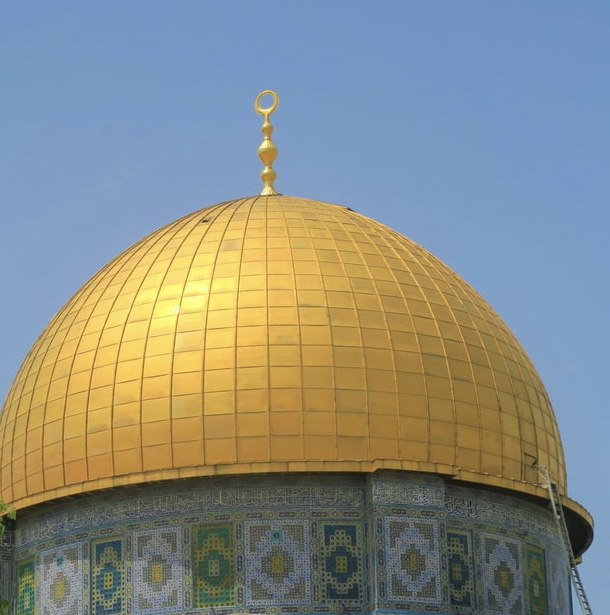Mosque: (3, 72, 599, 600)
